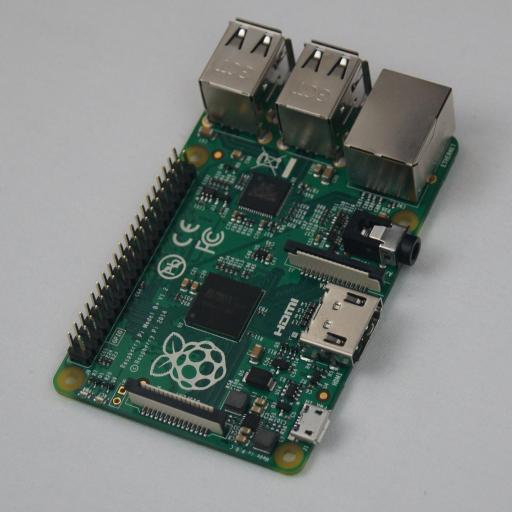Raspberry Pi 1 B-: (53, 19, 459, 475)
